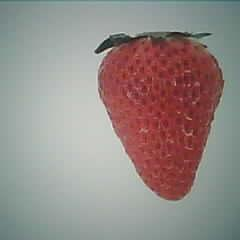straw-ripe: (97, 35, 225, 203)
